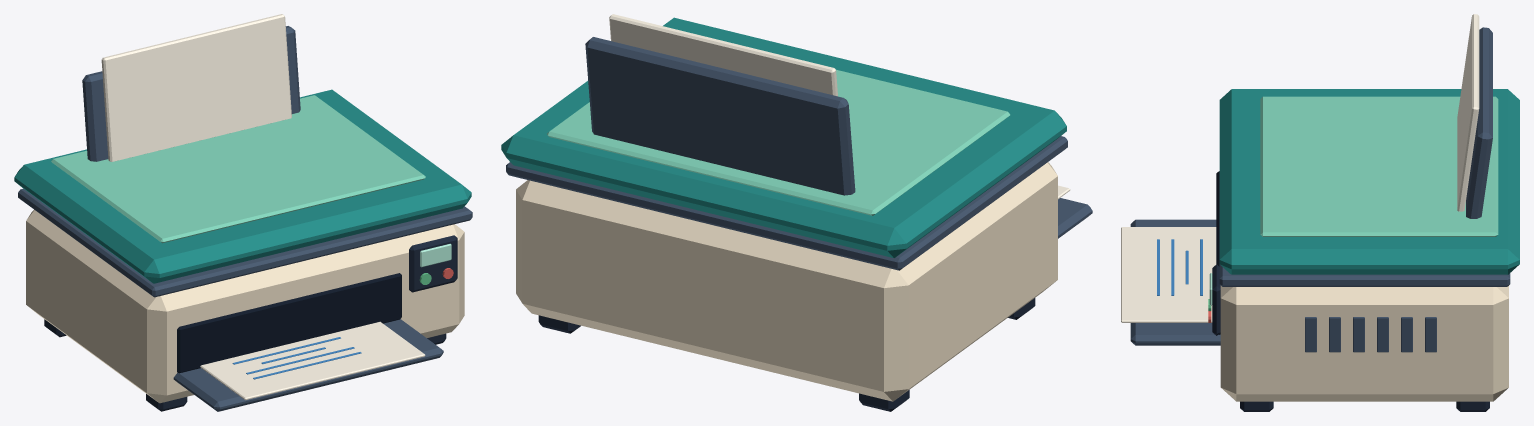
The model's file is Printer.glb.
The picture shows the model from 3 angles, left to right: view 1: azimuth 30°, elevation 25°; view 2: azimuth 150°, elevation 25°; view 3: azimuth 270°, elevation 25°; orthographic projection. The views are drawn at different scales.
Parts seen in each view (by area): view 1: Printer; view 2: Printer; view 3: Printer.
Boxes of the visible parts, x1,y1,x2,y2 form: Printer: (14, 14, 472, 411); Printer: (501, 14, 1092, 411); Printer: (1121, 14, 1519, 411).
Size of the model in its own units: 3.35 by 2.56 by 3.32.
1 material, 1 textured.
